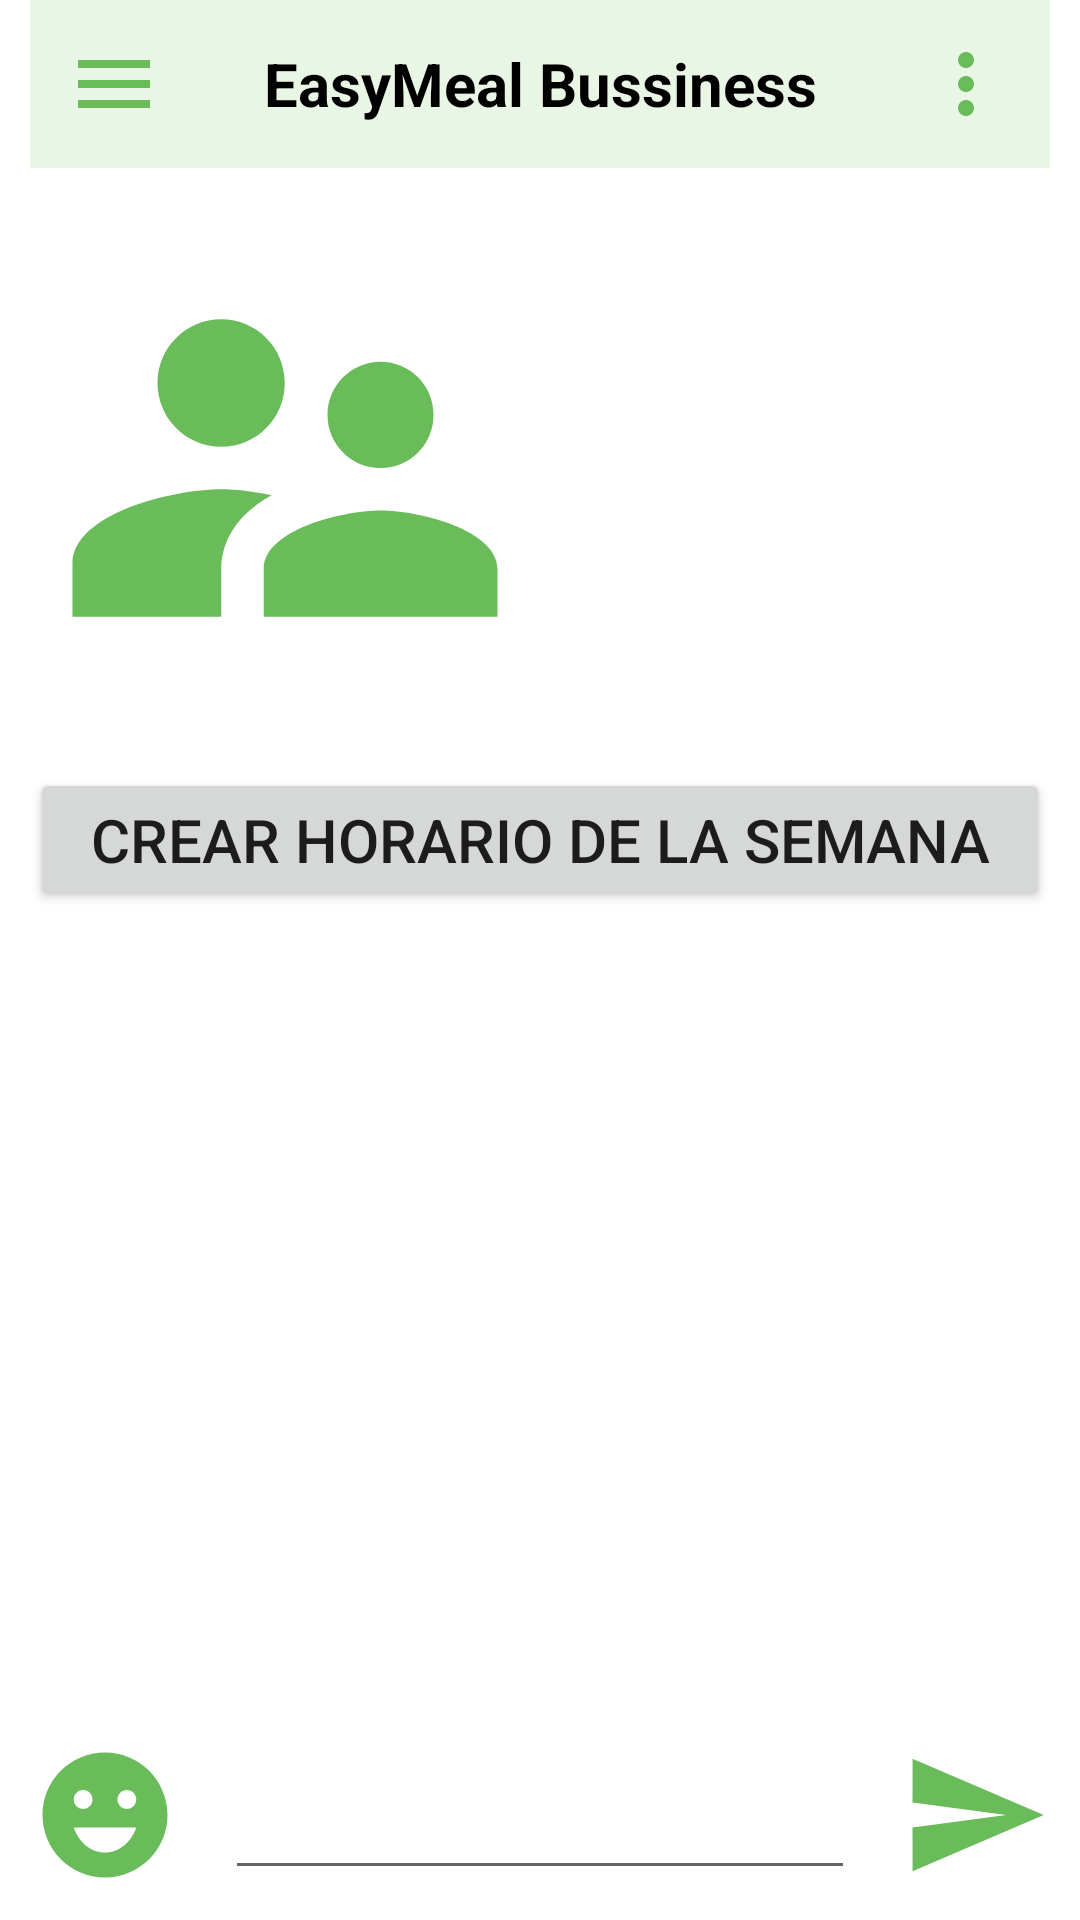

Named icons in this screenshot (1080 x 1920) and their bounding boxes, bbox=(x1, y1, x2, y2):
emoji: bbox=(42, 1752, 168, 1878)
menu: bbox=(78, 60, 150, 108)
more: bbox=(958, 52, 974, 116)
send: bbox=(912, 1759, 1043, 1871)
